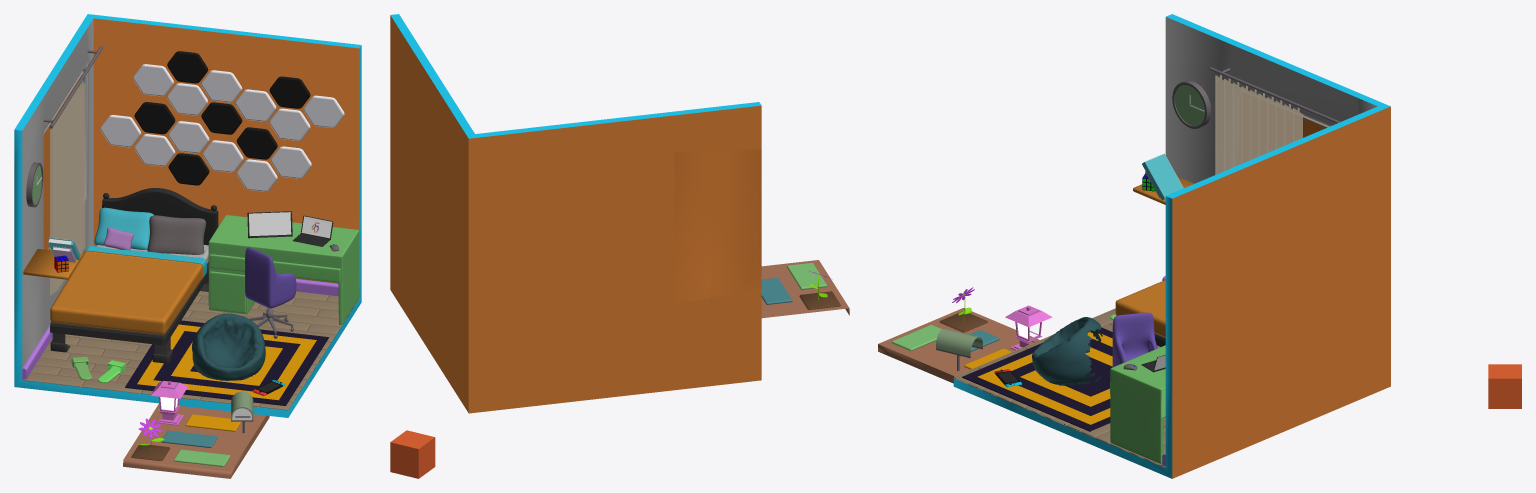
3 renders of one model, left to right at view 1: azimuth 30°, elevation 25°; view 2: azimuth 150°, elevation 25°; view 3: azimuth 270°, elevation 25°, orthographic. The views are drawn at different scales.
Visible parts, largest first — view 1: Body, Hex, Desks, Bed top, Wood floor, Curtains, Bed bottom, Mini floor, Bean bag chair, Chair, Computer, Shelf (+10 smaller); view 2: Back walls, Body, Mini floor, Cube, Step 3, Step 2, Dirt; view 3: Back walls, Body, Desks, Curtains, Mini floor, Bean bag chair, Chair, Wood floor, Shelf, Cube, Bed top, Clock (+3 smaller).
Boxes of the visible parts, box(x1,y1,x2,y2) form: Body: box(14, 14, 361, 417); Hex: box(100, 51, 344, 191); Desks: box(125, 215, 358, 405); Bed top: box(50, 207, 208, 334); Wood floor: box(22, 291, 359, 410); Curtains: box(50, 82, 85, 295); Bed bottom: box(50, 188, 218, 363); Mini floor: box(123, 403, 269, 478); Bean bag chair: box(192, 313, 265, 380); Chair: box(245, 247, 296, 308); Computer: box(247, 211, 333, 246); Shelf: box(23, 237, 82, 279); Back walls: box(390, 15, 761, 413); Body: box(390, 14, 761, 304); Mini floor: box(761, 260, 849, 318); Cube: box(390, 430, 435, 478); Step 3: box(787, 263, 827, 289); Step 2: box(761, 278, 792, 304); Dirt: box(799, 291, 840, 309); Back walls: box(1172, 106, 1390, 478); Body: box(953, 14, 1390, 478); Desks: box(962, 327, 1165, 464); Curtains: box(1215, 74, 1303, 174); Mini floor: box(878, 308, 1039, 383); Bean bag chair: box(1032, 317, 1102, 385); Chair: box(1112, 312, 1157, 366); Wood floor: box(954, 308, 1165, 467); Shelf: box(1133, 153, 1194, 204); Cube: box(1488, 364, 1521, 408); Bed top: box(1115, 280, 1165, 337); Clock: box(1172, 80, 1211, 128).
Bounding box in the file's own units: 11.31 × 8.43 × 16.66.
66 materials, 1 textured.
